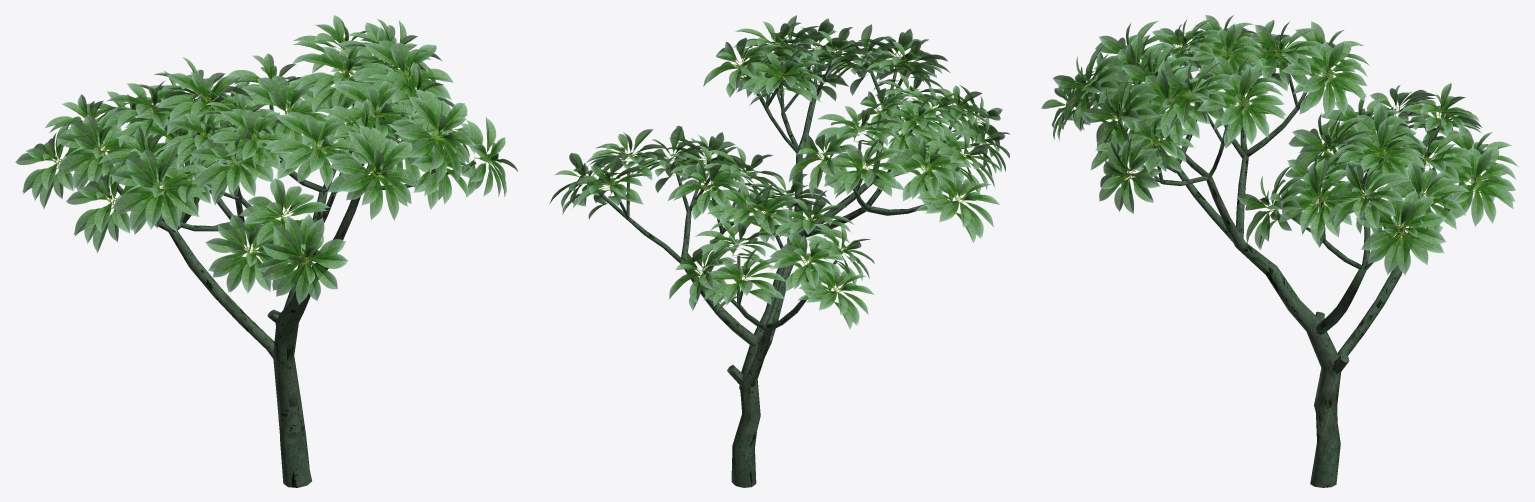
The model's file is Jasmin_blend.obj.
The picture shows the model from 3 angles, left to right: view 1: azimuth 30°, elevation 25°; view 2: azimuth 150°, elevation 25°; view 3: azimuth 270°, elevation 25°; orthographic projection. The views are drawn at different scales.
Visible parts, largest first — view 1: Mesh465_Line006_1_1_Kamboja_2_1_Model, Mesh1_Group1_Kamboja_2_1_Model; view 2: Mesh465_Line006_1_1_Kamboja_2_1_Model, Mesh1_Group1_Kamboja_2_1_Model, Mesh203_Group5_Group3_Kamboja_2_1_Model; view 3: Mesh465_Line006_1_1_Kamboja_2_1_Model, Mesh1_Group1_Kamboja_2_1_Model, Mesh203_Group5_Group3_Kamboja_2_1_Model, Mesh468_Line006_1_1_Kamboja_2_1_Model, Mesh472_Line006_1_1_Kamboja_2_1_Model, Mesh471_Line006_1_1_Kamboja_2_1_Model.
Boxes of the visible parts, box(x1,y1,x2,y2) form: Mesh465_Line006_1_1_Kamboja_2_1_Model: box(273, 167, 383, 487); Mesh1_Group1_Kamboja_2_1_Model: box(117, 185, 274, 358); Mesh465_Line006_1_1_Kamboja_2_1_Model: box(731, 98, 816, 487); Mesh1_Group1_Kamboja_2_1_Model: box(739, 300, 806, 389); Mesh203_Group5_Group3_Kamboja_2_1_Model: box(684, 269, 758, 346); Mesh465_Line006_1_1_Kamboja_2_1_Model: box(1168, 142, 1341, 487); Mesh1_Group1_Kamboja_2_1_Model: box(1334, 164, 1425, 380); Mesh203_Group5_Group3_Kamboja_2_1_Model: box(1316, 269, 1366, 334); Mesh468_Line006_1_1_Kamboja_2_1_Model: box(1176, 169, 1232, 241); Mesh472_Line006_1_1_Kamboja_2_1_Model: box(1236, 155, 1248, 237); Mesh471_Line006_1_1_Kamboja_2_1_Model: box(1240, 107, 1298, 156).
Bounding box in the file's own units: 46.11 × 50.3 × 50.2.
Materials: 3 (3 with a texture image).
